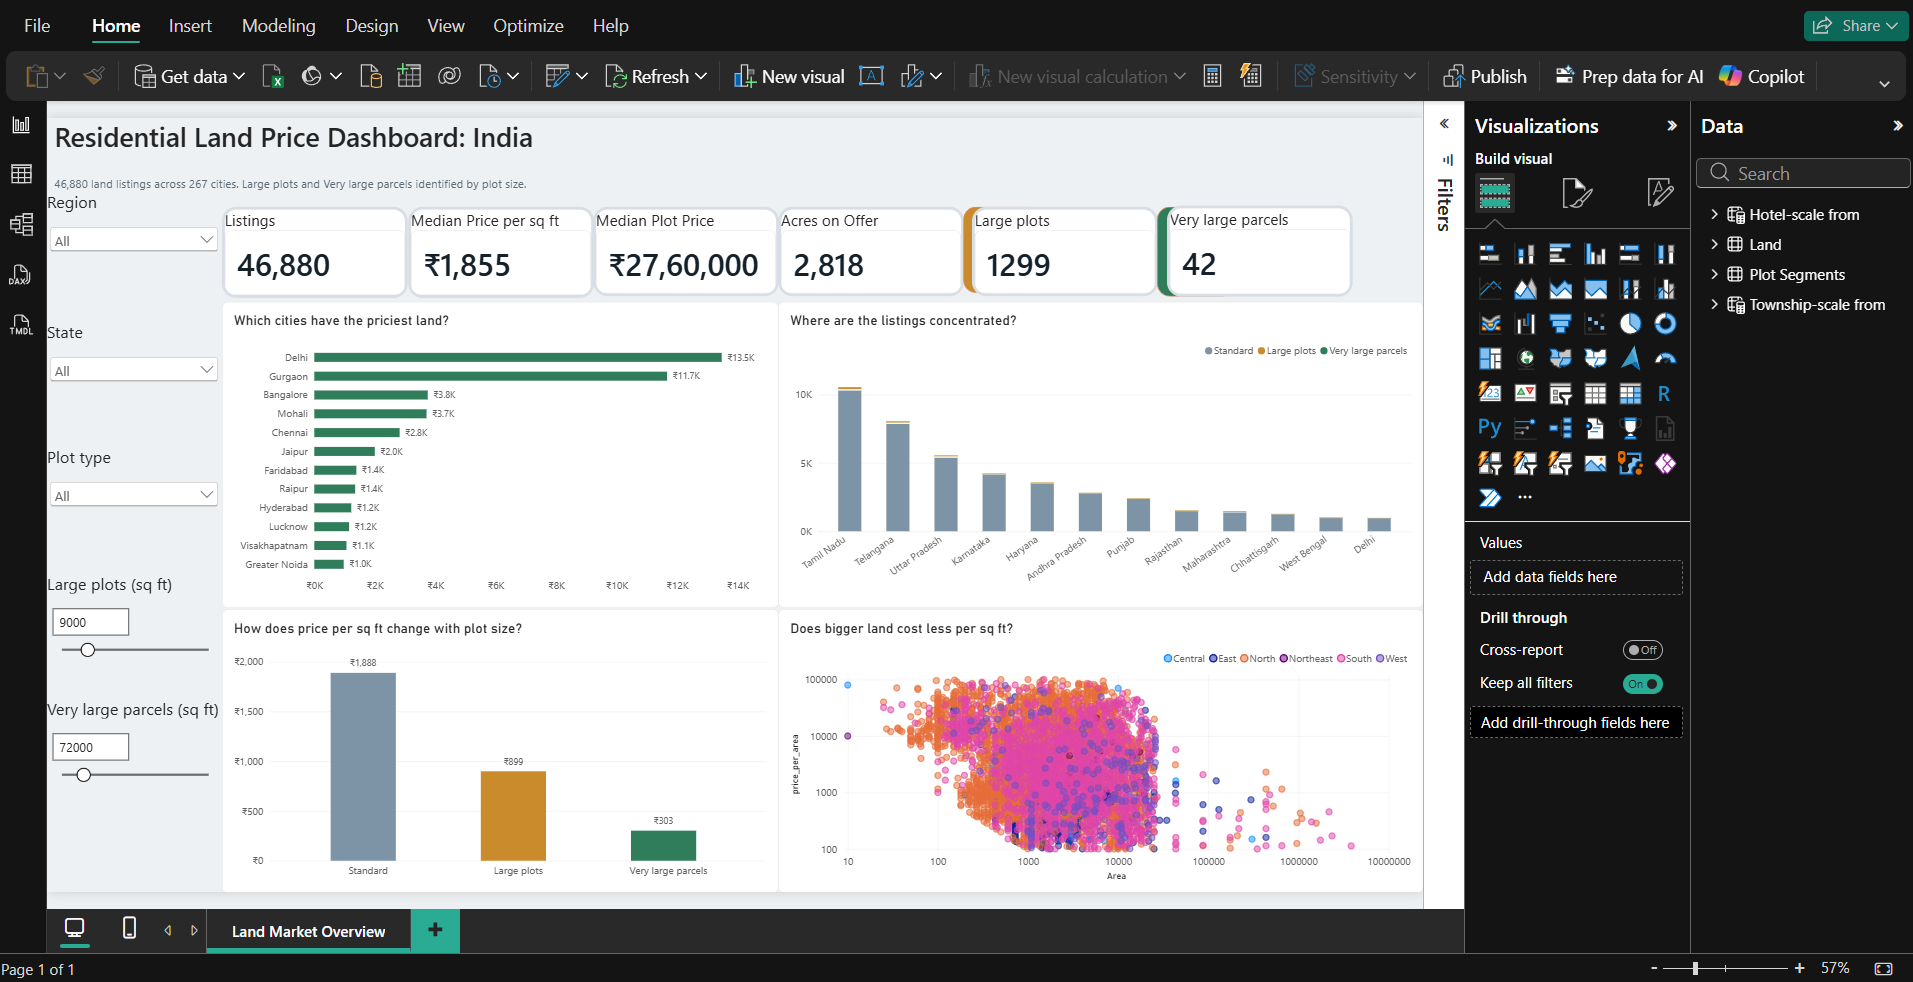

Layout of this report page (visuals, bound fields, positions):
{"tool":"powerbi","page":{"name":"Land Market Overview","canvas":[1920,1080],"ordinal":0},"visuals":[{"type":"textbox","box":[10.3,0,1910.1,53.5],"z":0},{"type":"textbox","box":[10.3,80.3,1910.1,43.2],"z":1000},{"type":"slicer","title":"Region","fields":{"Values":["Land.region"]},"box":[0,101.9,243.8,175.3],"z":2000},{"type":"slicer","title":"State","fields":{"Values":["Land.state"]},"box":[0,282.2,243.8,175.3],"z":3000},{"type":"slicer","title":"Plot type","fields":{"Values":["Plot Segments.Segment"]},"box":[0,457.5,243.8,175.3],"z":4000},{"type":"cardVisual","title":"Listings","fields":{"Data":["Land.Seg Listings"]},"box":[243.8,123.6,259.5,127],"z":5000},{"type":"cardVisual","title":"Acres on Offer","fields":{"Data":["Land.Seg Acres"]},"box":[1020.2,123.6,259.5,125.2],"z":6000},{"type":"cardVisual","title":"Median Plot Price","fields":{"Data":["Land.Seg Median Plot Price"]},"box":[761.4,123.6,259.5,125.2],"z":7000},{"type":"shape","box":[1279,123.6,108.5,120.2],"z":8500},{"type":"cardVisual","title":"Large plots","fields":{"Data":["Land.Hotel Sites"]},"box":[1290.7,123.6,259.5,125.2],"z":8750},{"type":"cardVisual","title":"Median Price per sq ft","fields":{"Data":["Land.Seg Median Price per sq ft"]},"box":[504.3,123.6,259.5,127],"z":11000},{"type":"shape","box":[1549.5,123.6,108.5,125.2],"z":11250},{"type":"cardVisual","title":"Very large parcels","fields":{"Data":["Land.Township Sites"]},"box":[1562.9,121.9,259.5,127],"z":11500},{"type":"clusteredBarChart","title":"Which cities have the priciest land?","fields":{"Category":["Land.city"],"Y":["Land.Seg Median Price per sq ft"]},"box":[243.8,257.1,776.4,427.5],"z":11501},{"type":"clusteredColumnChart","title":"How does price per sq ft change with plot size?","fields":{"Category":["Plot Segments.Segment"],"Y":["Land.Seg Median Price per sq ft"]},"box":[243.8,684.6,776.4,395.7],"z":11502},{"type":"columnChart","title":"Where are the listings concentrated?","fields":{"Category":["Land.state"],"Series":["Plot Segments.Segment"],"Y":["Land.Seg Listings"]},"box":[1020.2,257.1,900,427.5],"z":11503},{"type":"scatterChart","title":"Does bigger land cost less per sq ft?","fields":{"Series":["Land.region"],"X":["Land.Area"],"Y":["Land.price_per_area"]},"box":[1020.2,684.6,900,395.7],"z":11504},{"type":"slicer","title":"Large plots (sq ft)","fields":{"Values":["Hotel-scale from.Hotel-scale from"]},"box":[0,632.8,243.8,175.3],"z":11505},{"type":"slicer","title":"Very large parcels (sq ft)","fields":{"Values":["Township-scale from.Township-scale from"]},"box":[0,808.2,243.8,197],"z":11506}]}

Visuals, with their boxes on the page's 1920x1080 design canvas (x1, y1, x2, y2). These are canvas units, not pixel positions in the 1913x982 screenshot, which may show the page scaled, cropped or inside an application window:
textbox: select_region(10, 0, 1920, 54)
textbox: select_region(10, 80, 1920, 124)
"Region" slicer: select_region(0, 102, 244, 277)
"State" slicer: select_region(0, 282, 244, 458)
"Plot type" slicer: select_region(0, 458, 244, 633)
"Listings" cardVisual: select_region(244, 124, 503, 251)
"Acres on Offer" cardVisual: select_region(1020, 124, 1280, 249)
"Median Plot Price" cardVisual: select_region(761, 124, 1021, 249)
shape: select_region(1279, 124, 1388, 244)
"Large plots" cardVisual: select_region(1291, 124, 1550, 249)
"Median Price per sq ft" cardVisual: select_region(504, 124, 764, 251)
shape: select_region(1550, 124, 1658, 249)
"Very large parcels" cardVisual: select_region(1563, 122, 1822, 249)
"Which cities have the priciest land?" clusteredBarChart: select_region(244, 257, 1020, 685)
"How does price per sq ft change with plot size?" clusteredColumnChart: select_region(244, 685, 1020, 1080)
"Where are the listings concentrated?" columnChart: select_region(1020, 257, 1920, 685)
"Does bigger land cost less per sq ft?" scatterChart: select_region(1020, 685, 1920, 1080)
"Large plots (sq ft)" slicer: select_region(0, 633, 244, 808)
"Very large parcels (sq ft)" slicer: select_region(0, 808, 244, 1005)
